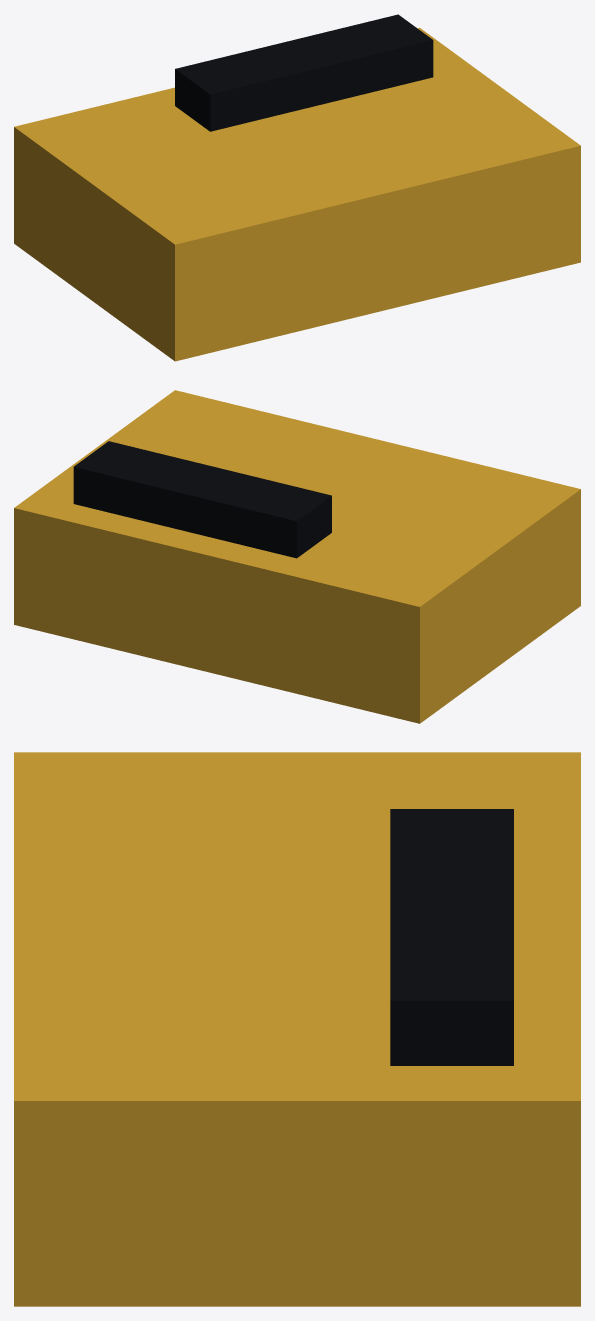
File: prop.door_breach_wedge.glb
3 views of the same model, one above another, from view 1: azimuth 30°, elevation 25°; view 2: azimuth 150°, elevation 25°; view 3: azimuth 270°, elevation 25° (orthographic). The views are drawn at different scales.
Parts seen in each view (by area): view 1: wedge_body, black_grip; view 2: wedge_body, black_grip; view 3: wedge_body, black_grip.
Boxes of the visible parts, box(x1,y1,x2,y2) form: wedge_body: box(14, 28, 580, 361); black_grip: box(175, 14, 433, 131); wedge_body: box(14, 390, 580, 723); black_grip: box(73, 441, 331, 558); wedge_body: box(14, 752, 580, 1306); black_grip: box(390, 809, 513, 1065).
Size of the model in its own units: 0.8 by 0.29 by 0.55.
